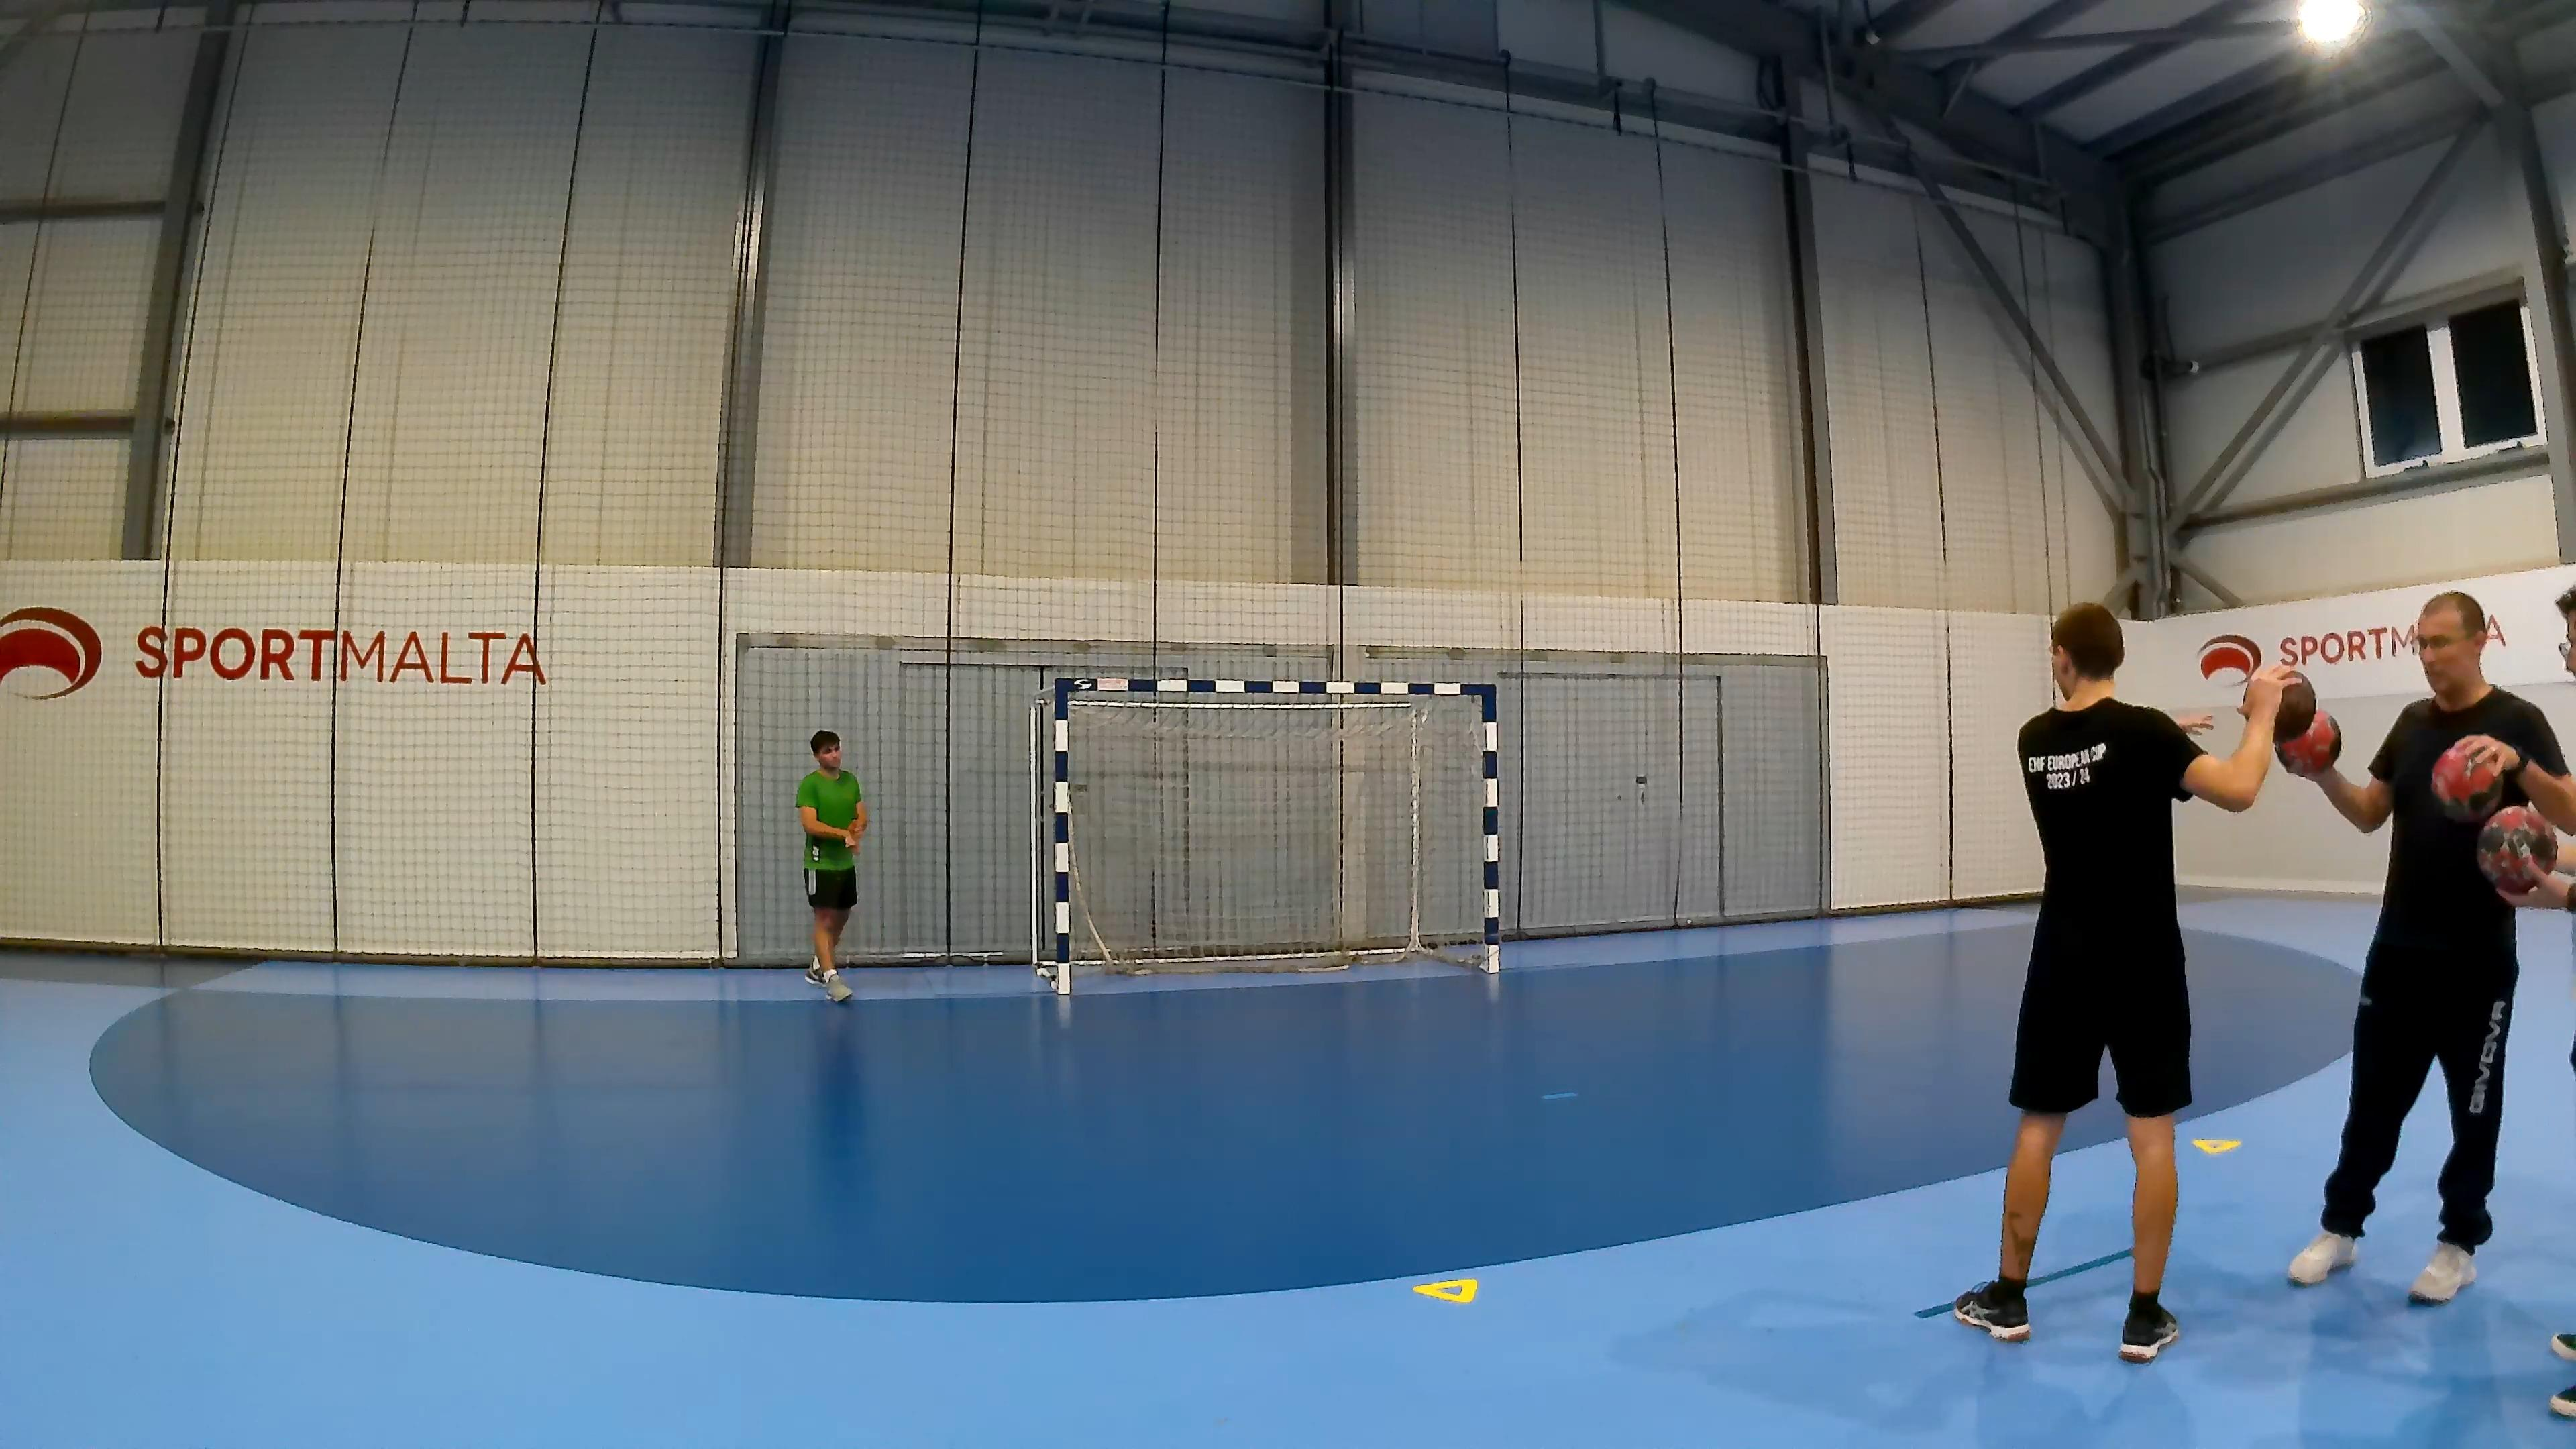handball: (2475, 801, 2557, 893), (2429, 738, 2503, 823), (2238, 665, 2316, 741), (2275, 709, 2341, 777)
